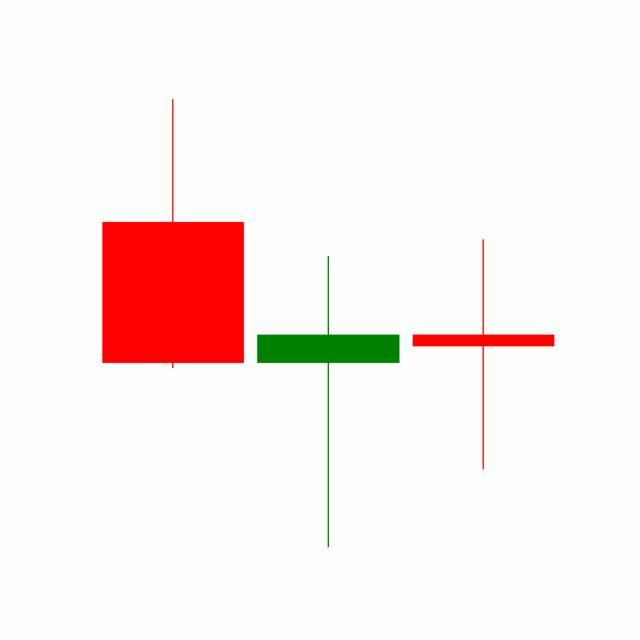Spinning Top: (250, 253, 407, 552)
